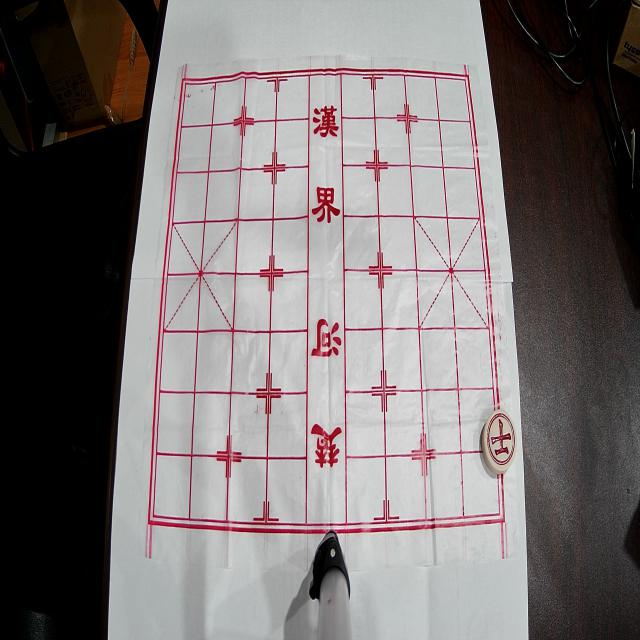red-guard: (482, 410, 517, 474)
